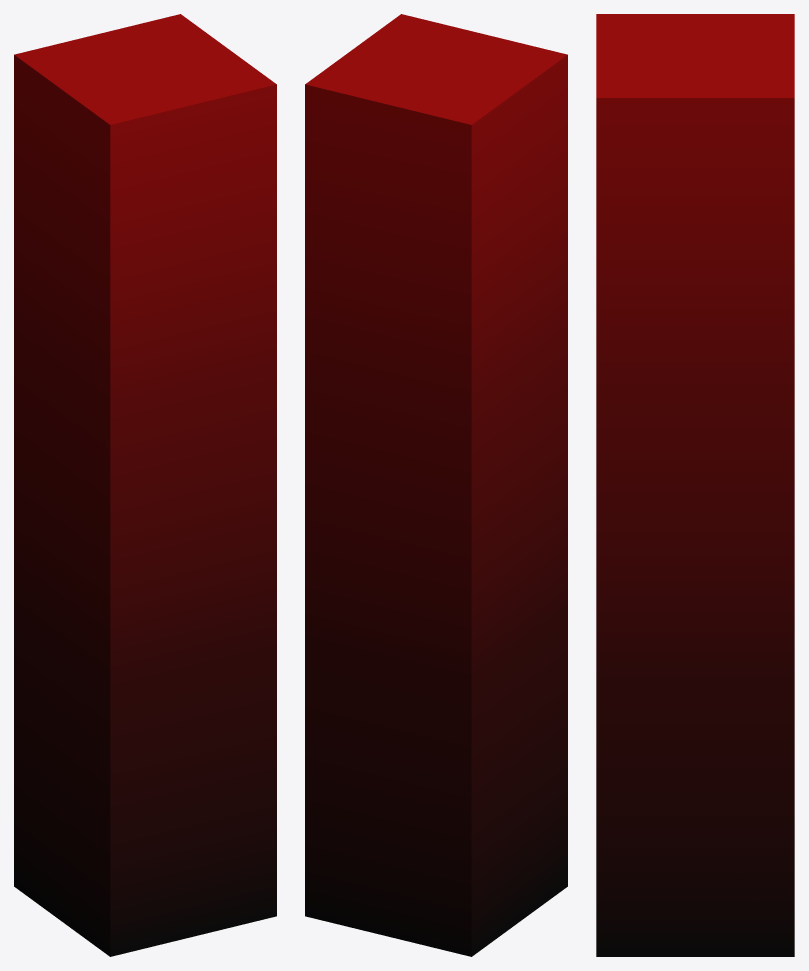
The model's file is Grass.fbx.
The picture shows the model from 3 angles, left to right: view 1: azimuth 30°, elevation 25°; view 2: azimuth 150°, elevation 25°; view 3: azimuth 270°, elevation 25°; orthographic projection. The views are drawn at different scales.
Visible parts, largest first — view 1: Cube; view 2: Cube; view 3: Cube.
Boxes of the visible parts, x1,y1,x2,y2 form: Cube: (14,14,276,956); Cube: (305,14,567,956); Cube: (596,14,794,956).
Bounding box in the file's own units: 5.44 × 25.95 × 5.44.
